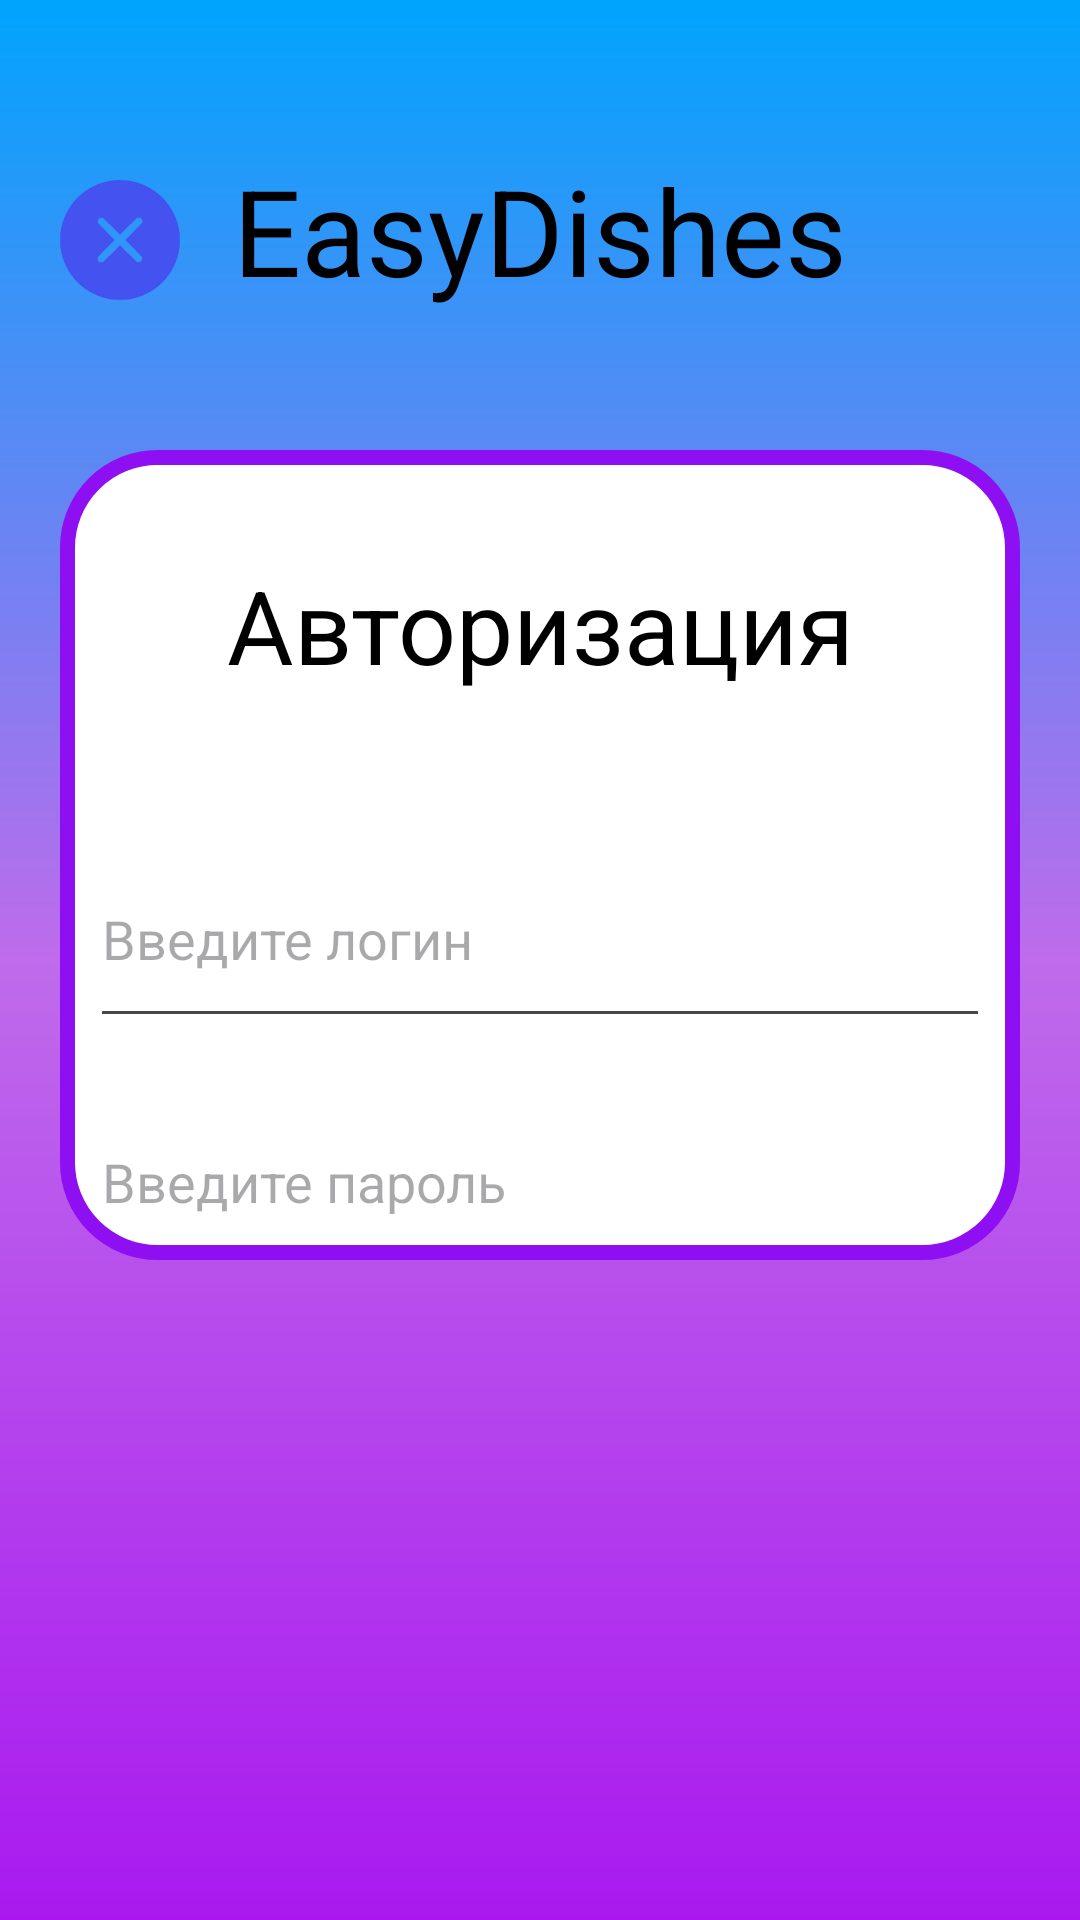

Locate icon controls on the screen. Image size 1080px×1920px, boxes as (x1, y1, x2, y2).
Ошибка: (60, 180, 180, 300)
